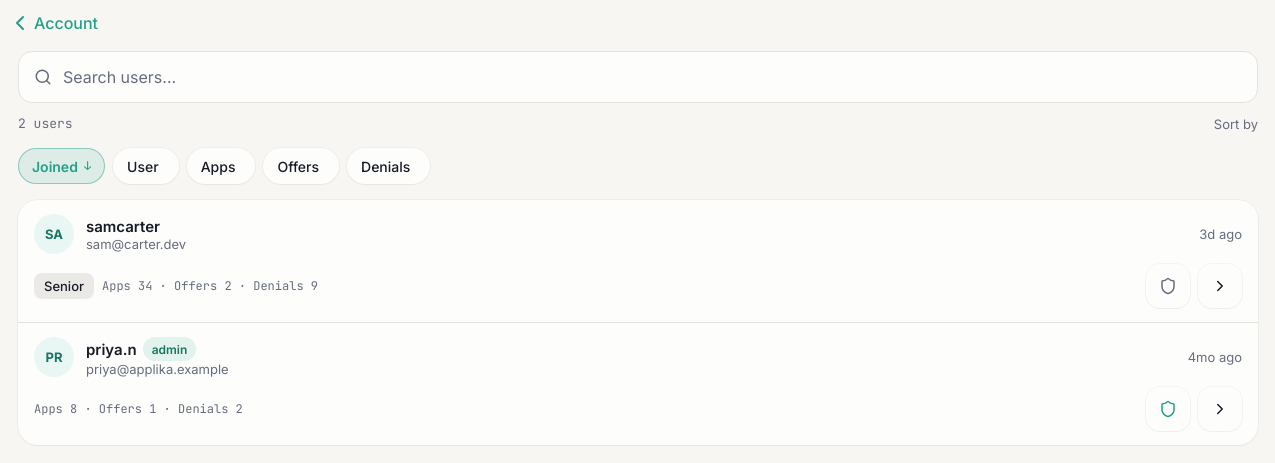
Test: the admin Users board below md (v3/AdminUsers) › names the five sort chips, presses the current one and flips it
Check: the text "samcarter" is shown, box 86,216 -> 160,236
Check: the button "Joined ↓" is shown, box 18,144 -> 105,188
Click the button with aria-label "Sort by Apps": point(221, 166) 187,144 -> 255,188
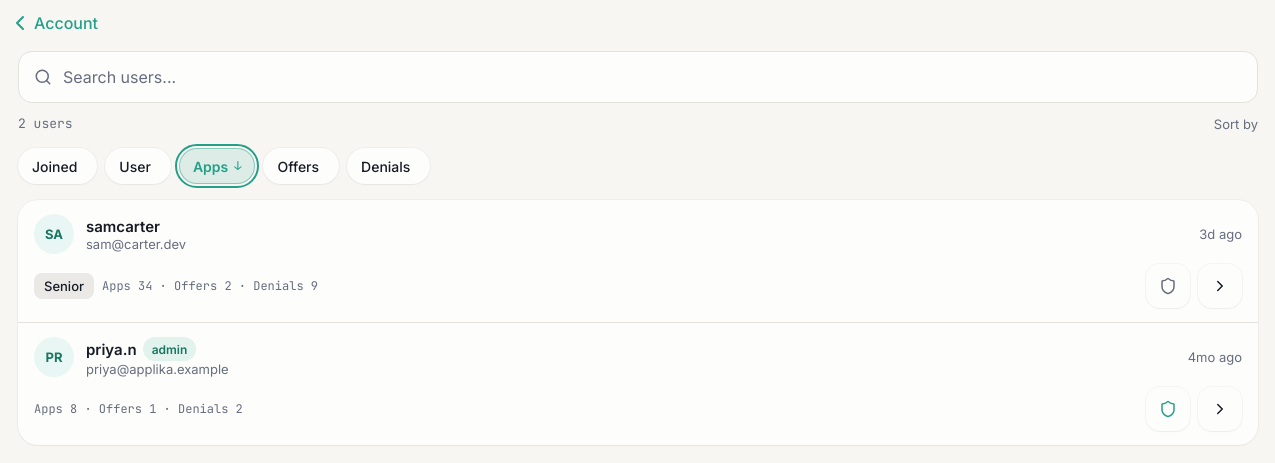
Check: the text "↓" is shown, box 234,158 -> 242,174
Check: the button with aria-label "Sort by Apps, descending" is pressed
# The current one again reverses its order.
Click the button with aria-label "Sort by Apps, descending": point(217, 166) 179,144 -> 256,188
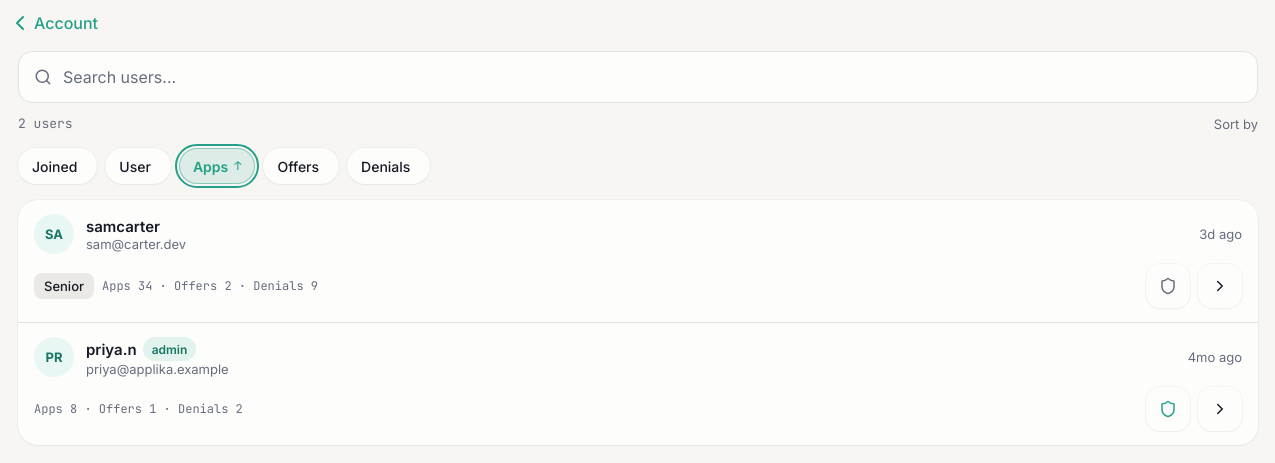
Check: the text "↑" is shown, box 234,158 -> 242,174
